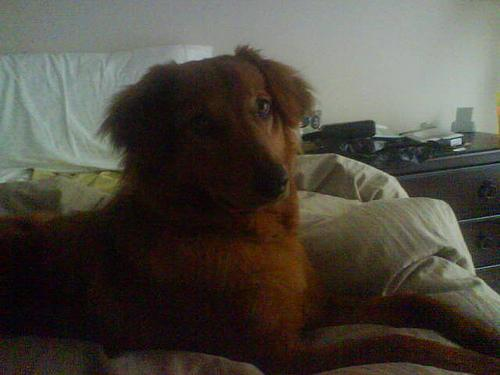Irish_setter: (0, 46, 499, 374)
